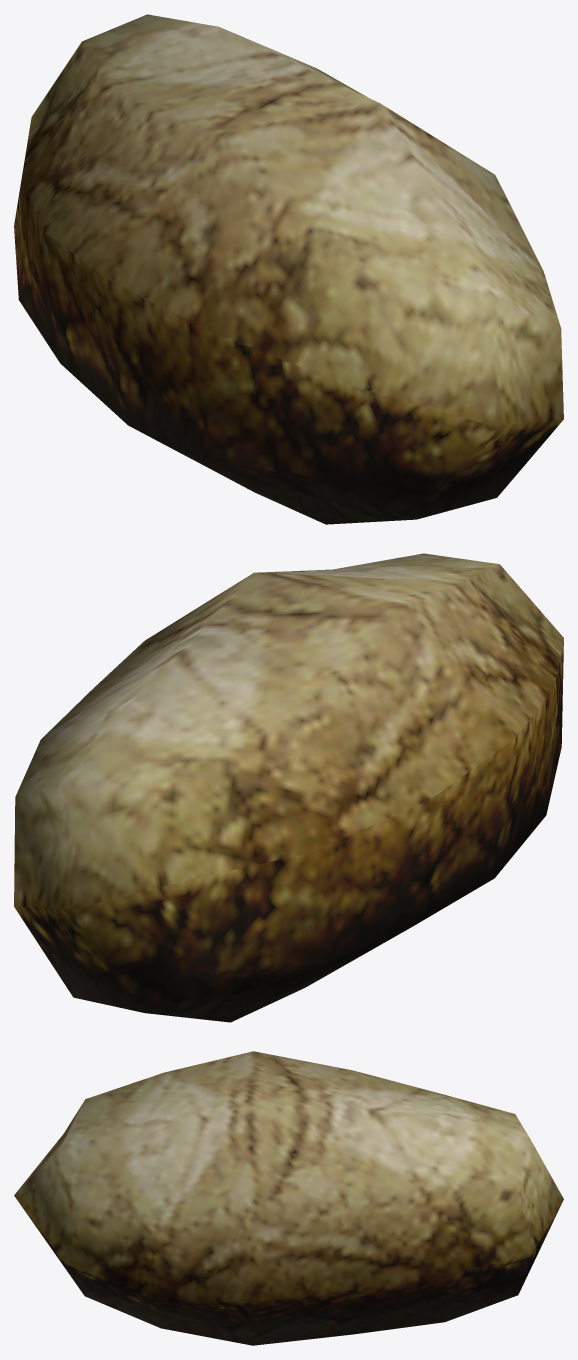
The model's file is stone02.FBX.
3 views of the same model, one above another, from view 1: azimuth 30°, elevation 25°; view 2: azimuth 150°, elevation 25°; view 3: azimuth 270°, elevation 25° (orthographic). The views are drawn at different scales.
Visible parts, largest first — view 1: stone02; view 2: stone02; view 3: stone02.
Part boxes in pixels (x1,y1,x2,y2): stone02: (14, 14, 563, 524); stone02: (14, 553, 563, 1022); stone02: (14, 1051, 563, 1345).
Bounding box in the file's own units: 994 × 880 × 1849.
